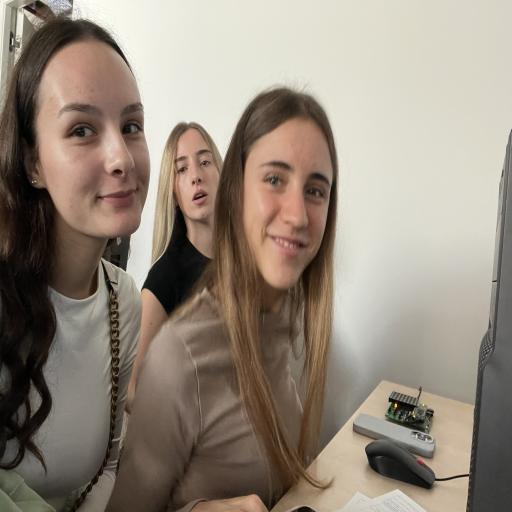marija: (34, 43, 154, 239)
masa: (249, 102, 334, 290)
